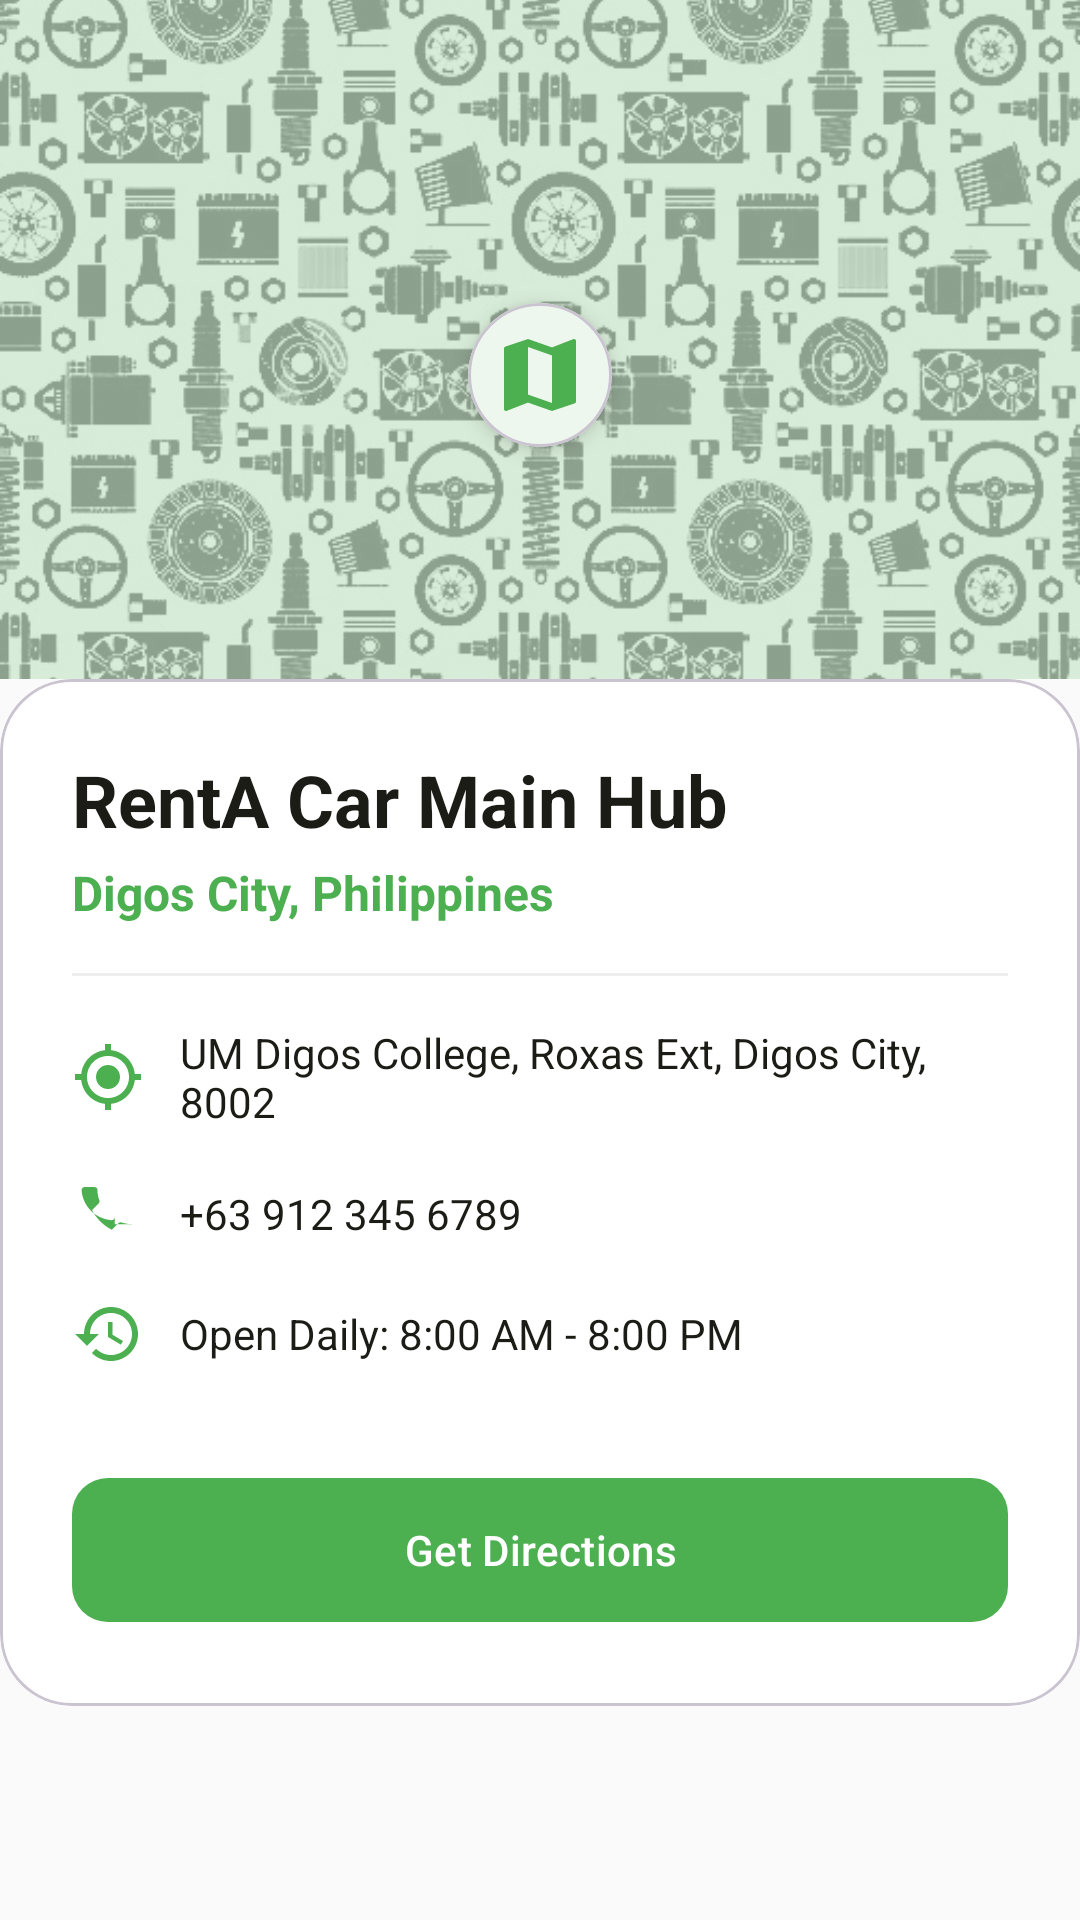

Named icons in this screenshot (1080*1920) and their centers, [x,y]:
Address Icon: [108,1077]
Hours Icon: [106,1334]
Phone Icon: [106,1208]
